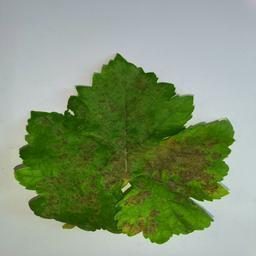Powdery-Mildew: (179, 133, 220, 193), (123, 210, 165, 237), (100, 142, 131, 178), (142, 143, 171, 180), (70, 189, 99, 214), (125, 190, 151, 213), (15, 163, 40, 184)
